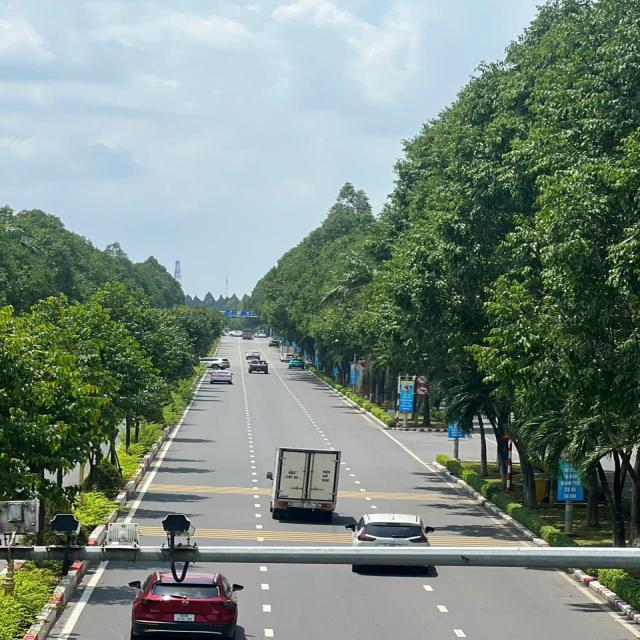ben: (264, 440, 347, 520)
car: (123, 565, 248, 640), (343, 510, 439, 569), (199, 351, 233, 370), (206, 365, 237, 385), (247, 355, 270, 376), (242, 346, 262, 362), (286, 356, 306, 370)
